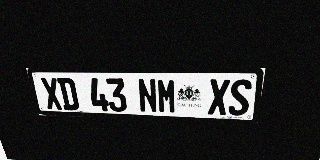3: (105, 78, 127, 112)
4: (87, 78, 109, 111)
D: (57, 78, 80, 110)
M: (157, 78, 176, 113)
N: (137, 78, 158, 113)
S: (228, 79, 252, 116)
X: (208, 79, 230, 115), (40, 77, 63, 110)
